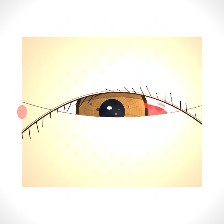hemorrhage_spot: (90, 79, 182, 153)
